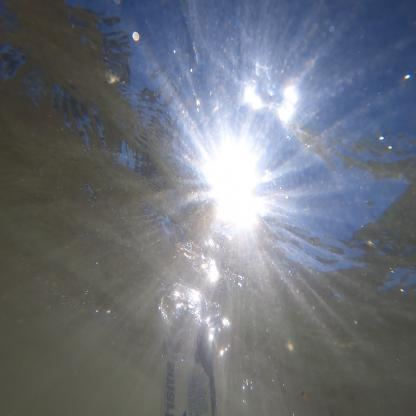Rác: (182, 208, 249, 414)
